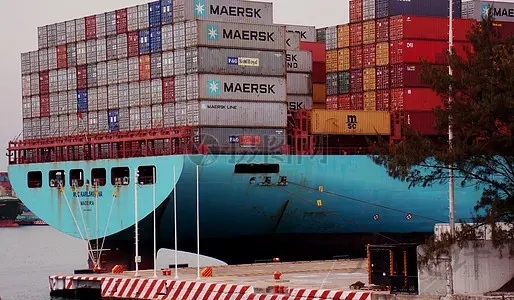Cargoship: (6, 1, 514, 266)
